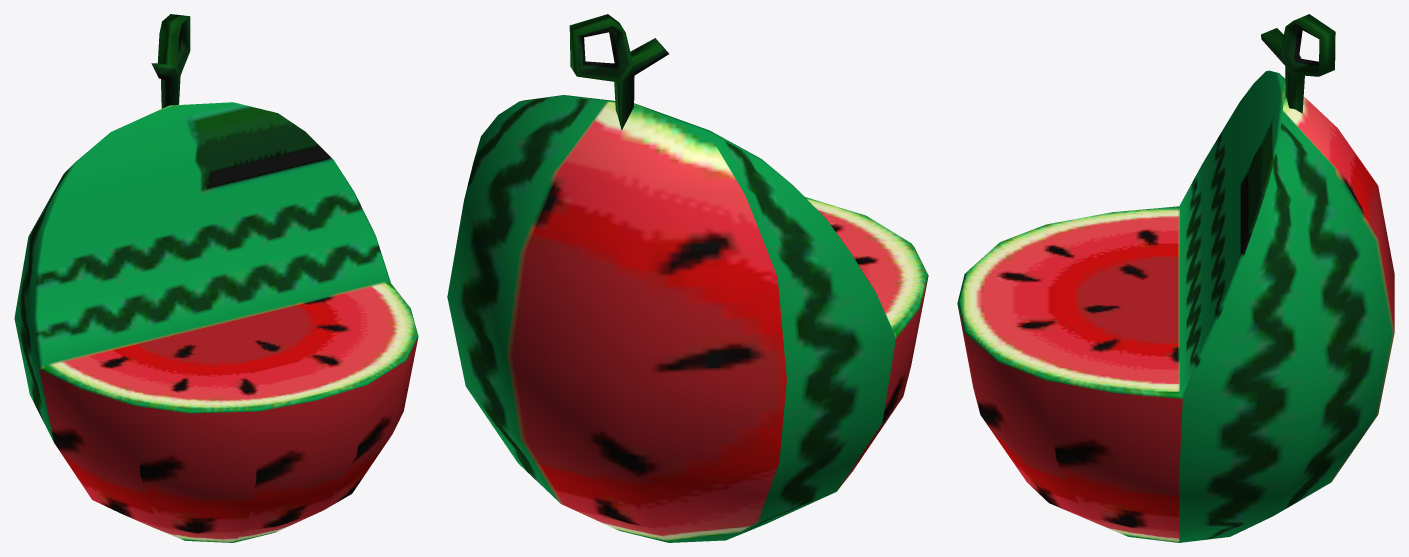
File: rmk_wtm_chairS.dae
3 renders of one model, left to right at view 1: azimuth 30°, elevation 25°; view 2: azimuth 150°, elevation 25°; view 3: azimuth 270°, elevation 25°, orthographic. The views are drawn at different scales.
Parts seen in each view (by area): view 1: rmk_wtm_chairS; view 2: rmk_wtm_chairS; view 3: rmk_wtm_chairS.
Boxes of the visible parts, x1=… form: rmk_wtm_chairS: x1=14, y1=14, x2=418, y2=542; rmk_wtm_chairS: x1=447, y1=14, x2=928, y2=542; rmk_wtm_chairS: x1=957, y1=14, x2=1394, y2=542.
Size of the model in its own units: 31.59 by 38.23 by 30.59.
Materials: 1 (1 with a texture image).
